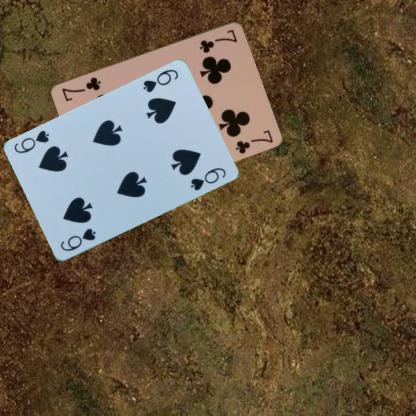6s: (140, 67, 180, 94), (58, 226, 97, 253)
7c: (196, 26, 238, 54)
